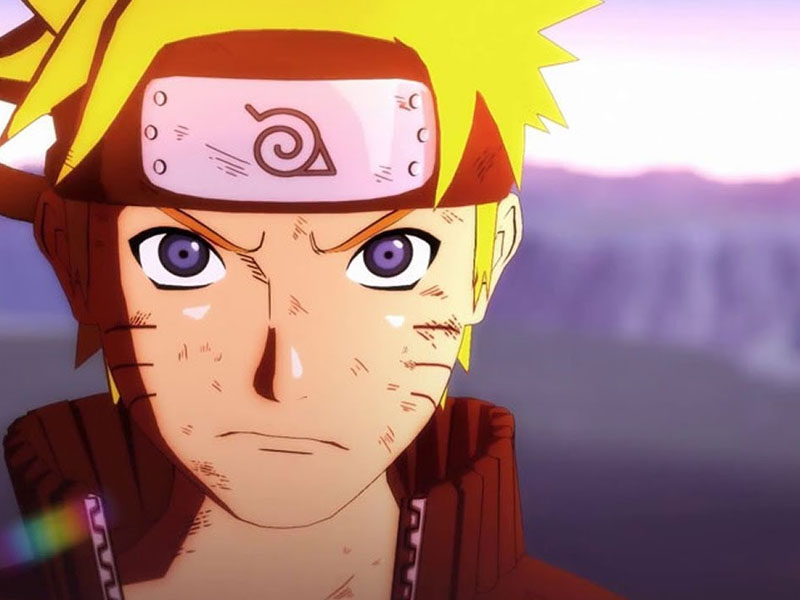naruto: (31, 28, 522, 532)
